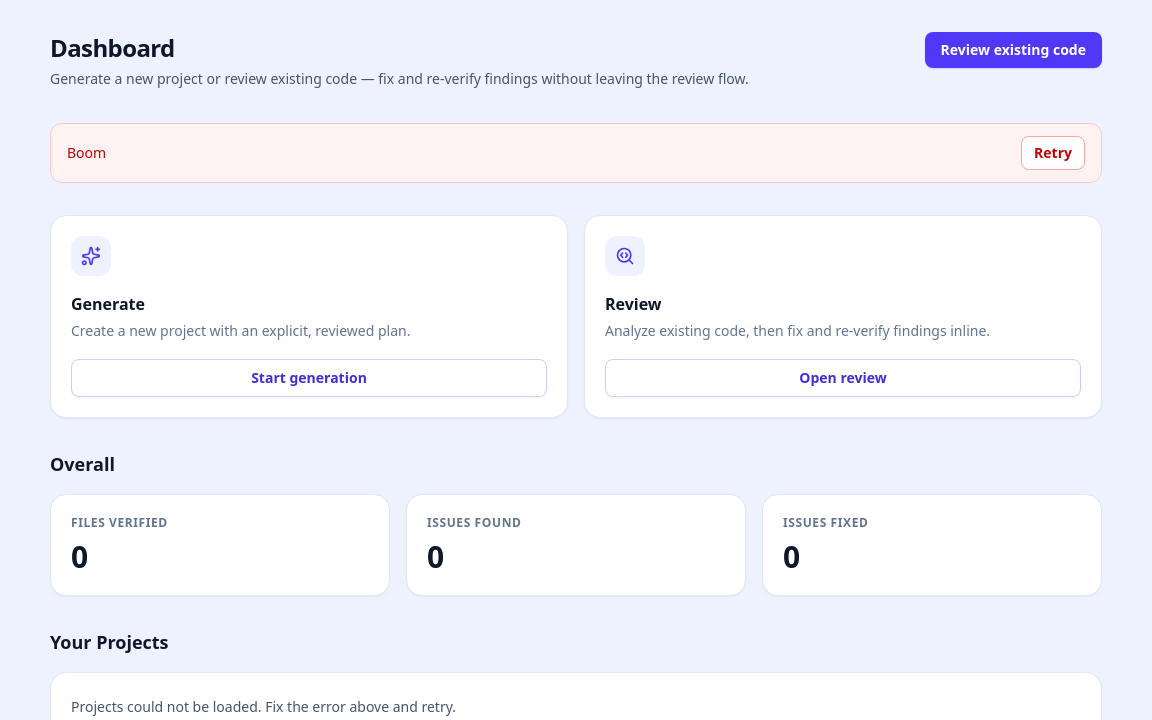
Scenario: DashboardPage › surfaces errors with a working Retry button
Expected: the text "Boom" is shown, [67,143,106,162]
Click the button "Retry" at (1053, 153), box [1021,136,1085,170]
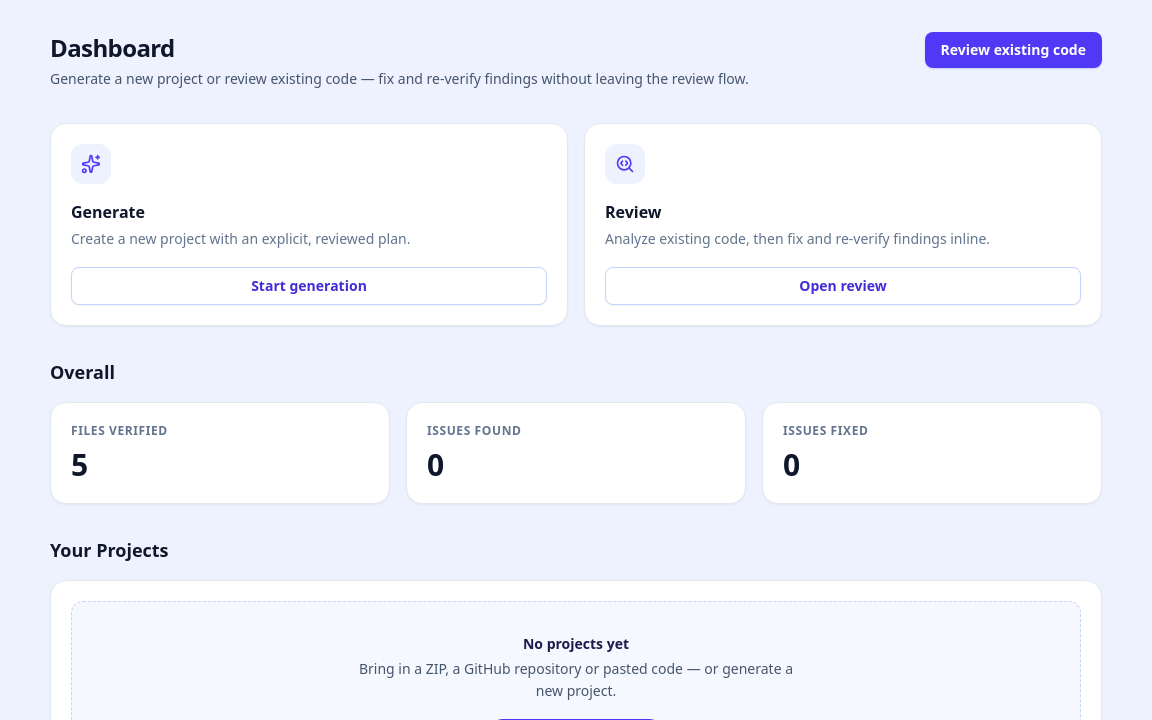
Expected: the text "5" is shown, [71,444,87,484]
Expected: the text "Boom" is gone
